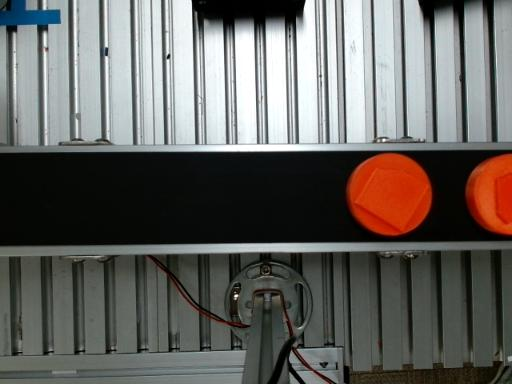Not_Square: (353, 167, 430, 233)
Orange_Waper: (346, 153, 431, 236), (466, 154, 511, 234)
